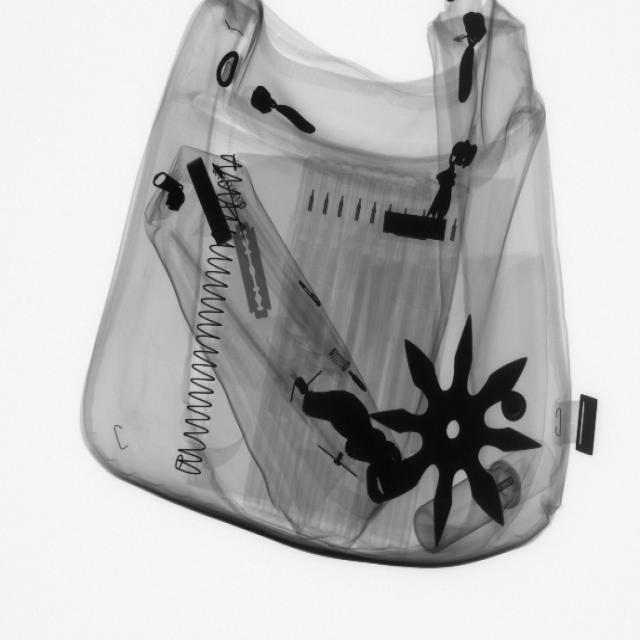BLADE: (231, 218, 276, 327)
SHURIKEN: (367, 314, 546, 548)
